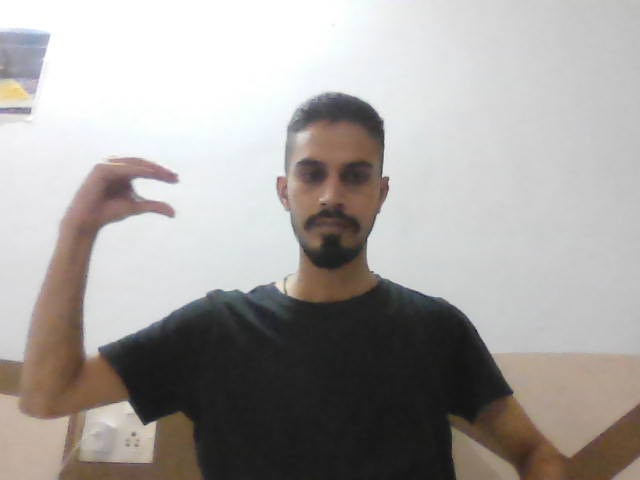No: (63, 148, 200, 237)
